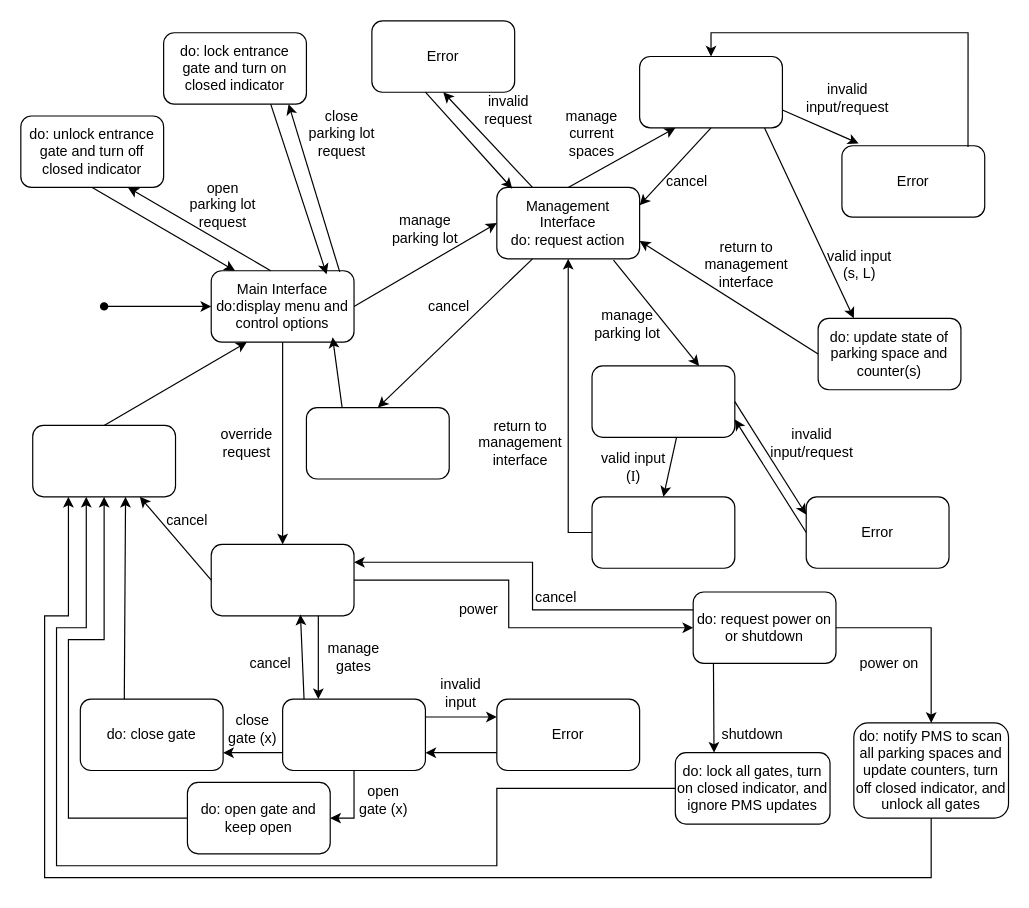
Some shapes in this 1029 by 908 pixel diagram are drawn without their labels. Each missing label, with the centre of its shape:
Cancel do: return to main interface: the point at 377,442
do: request forced override information: the point at 282,579
do: request gate action and gate: the point at 353,734
do: request parking lot setup information: the point at 663,401
do: request target parking space state and location(s): the point at 710,91
do: return to main interface: the point at 104,460
do: update parking lot organization and counters: the point at 663,532
